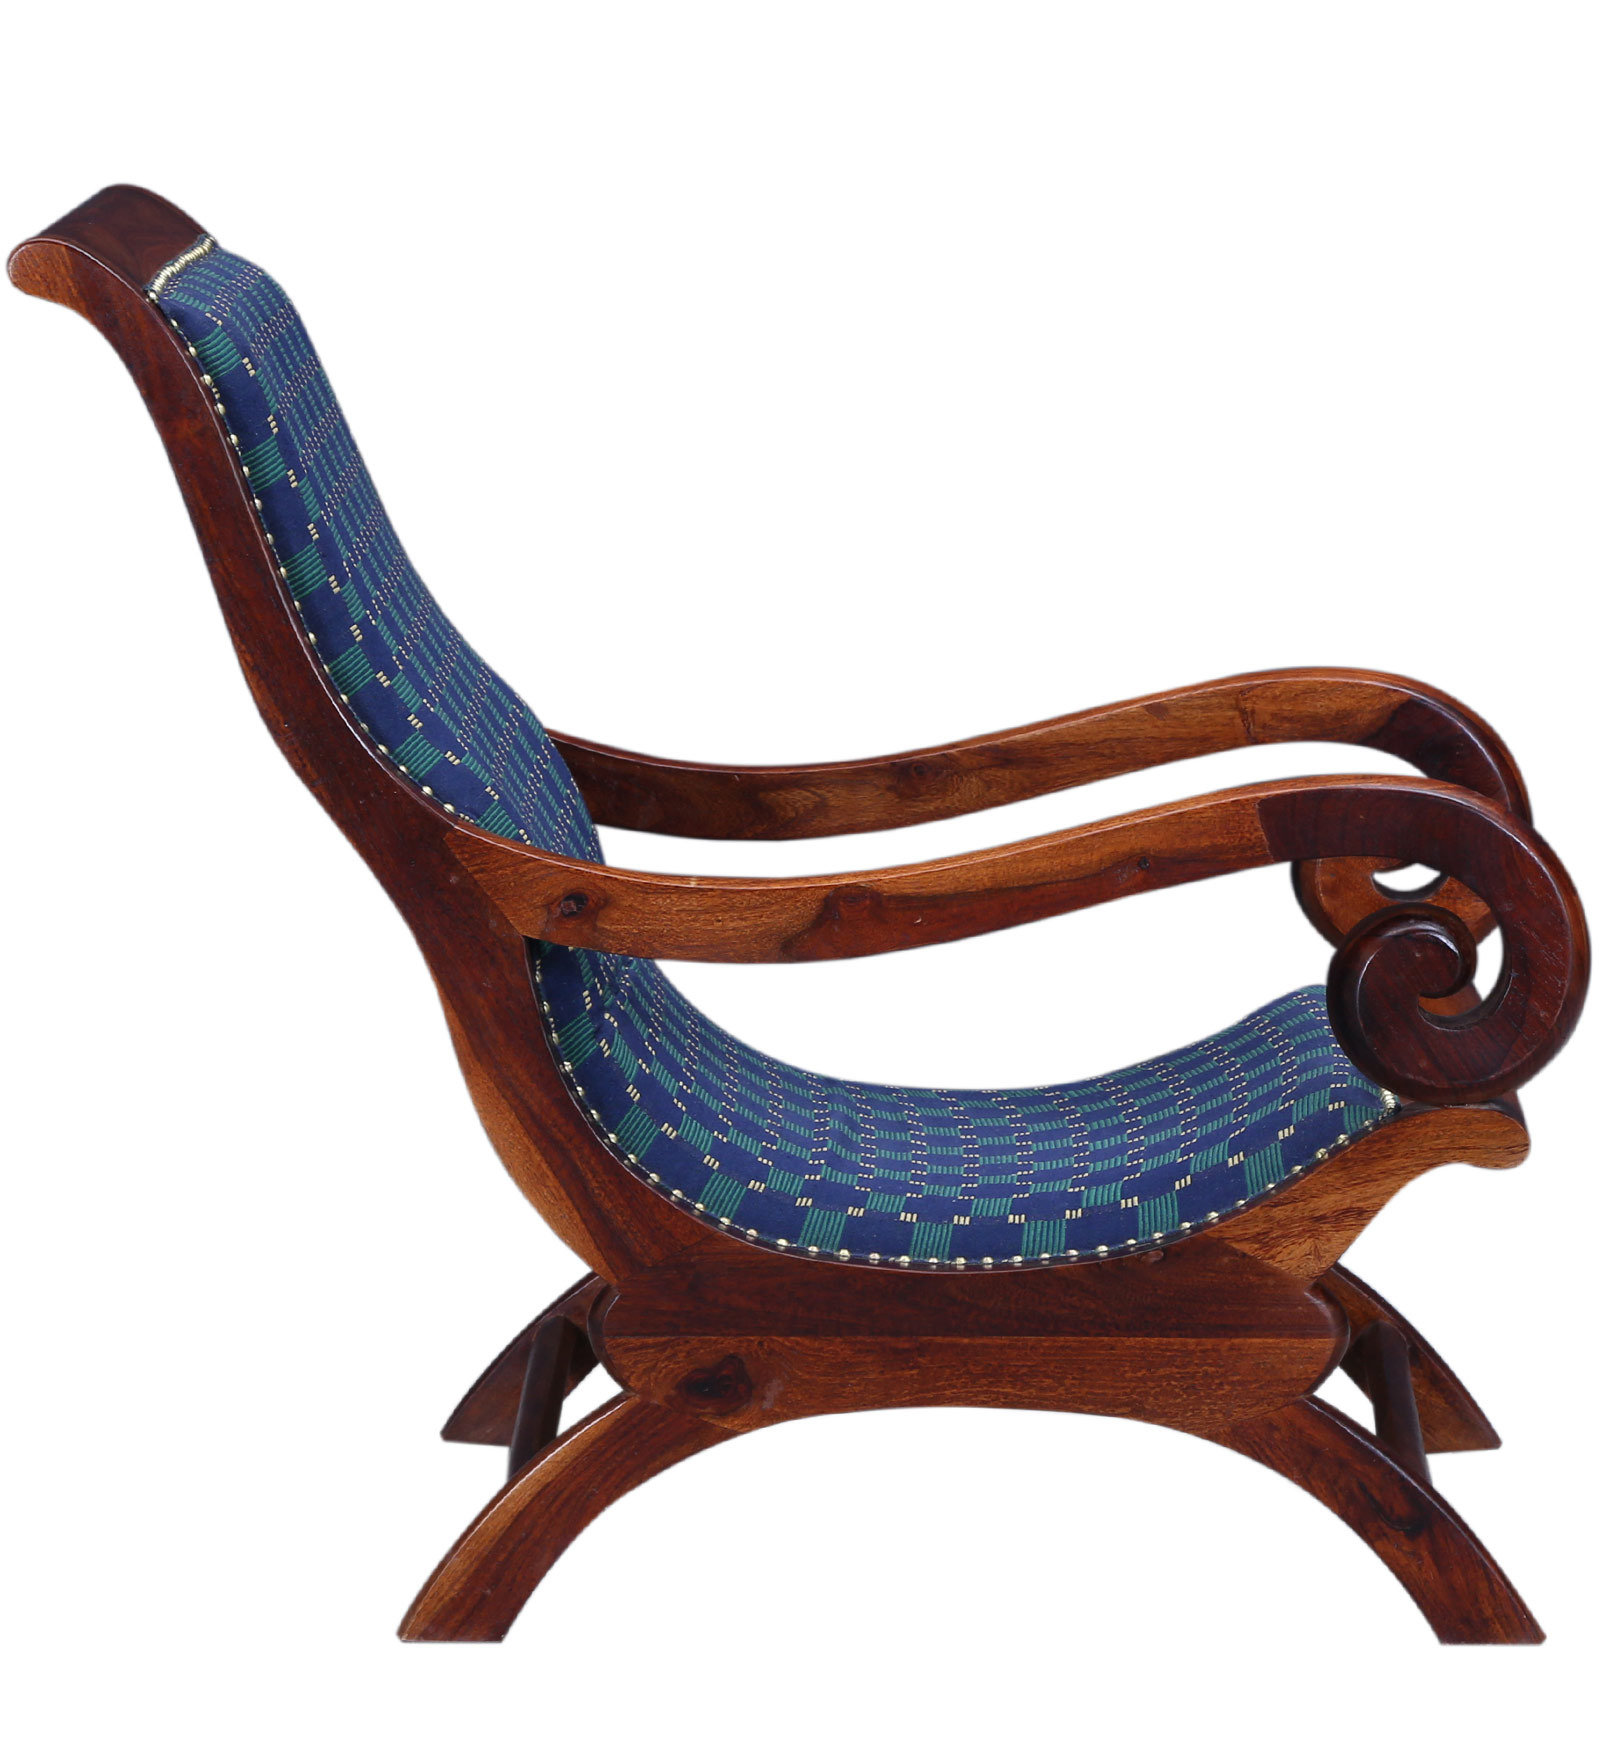Amherst Arm Chair in Honey Oak Finish by Amberville: (18, 150, 1600, 1673)
